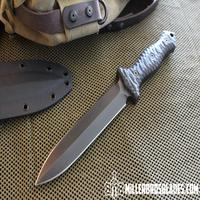knife: (33, 28, 178, 191)
